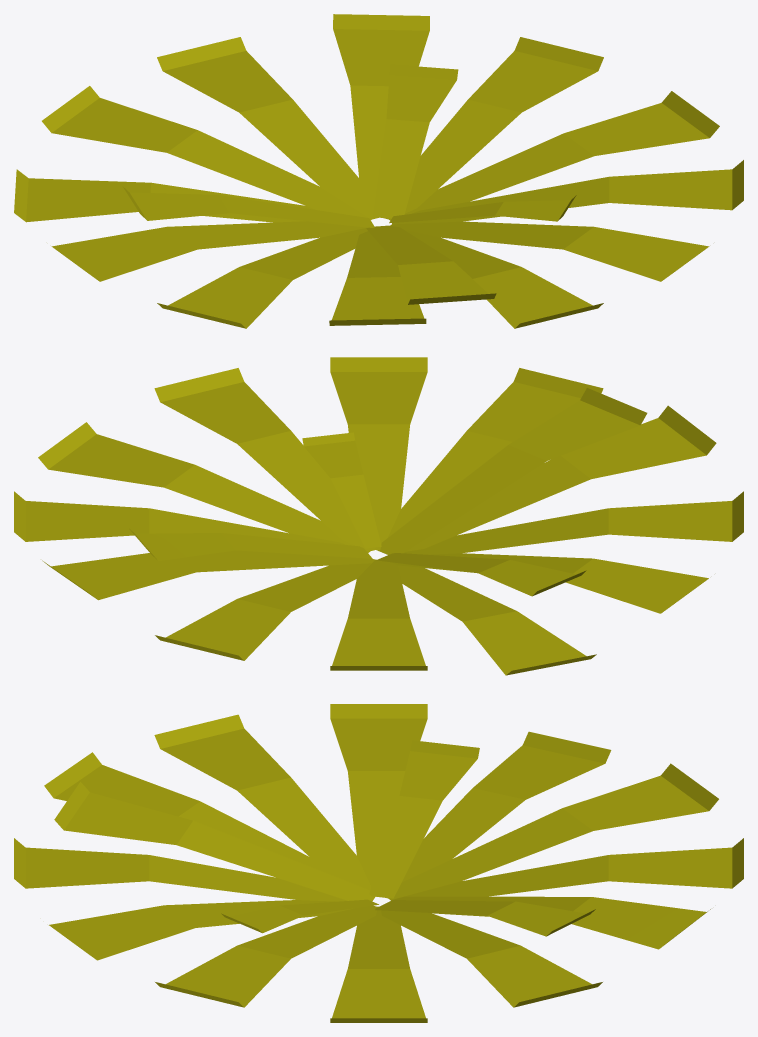
The model's file is Plant_4.fbx.
3 views of the same model, one above another, from view 1: azimuth 30°, elevation 25°; view 2: azimuth 150°, elevation 25°; view 3: azimuth 270°, elevation 25° (orthographic).
Visible parts, largest first — view 1: Plant_4; view 2: Plant_4; view 3: Plant_4.
Part boxes in pixels (x1,y1,x2,y2): Plant_4: [14, 14, 743, 328]; Plant_4: [14, 357, 743, 675]; Plant_4: [14, 704, 743, 1022].
Size of the model in its own units: 10.92 by 1.03 by 10.91.
